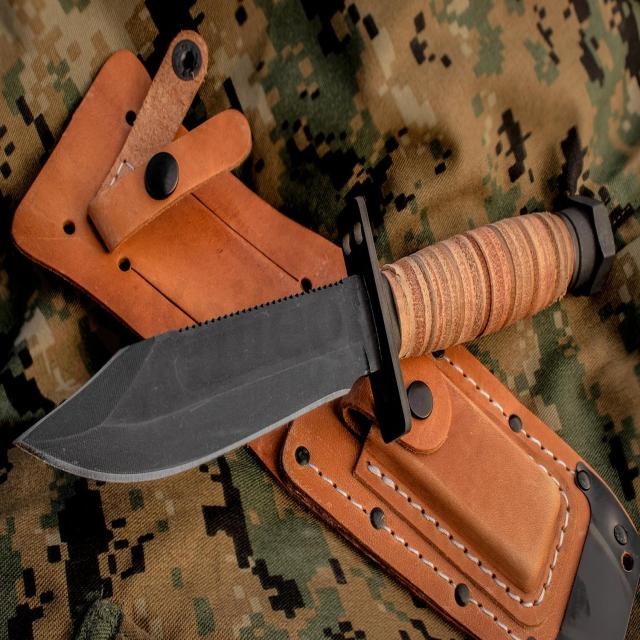knife: (9, 186, 615, 491)
